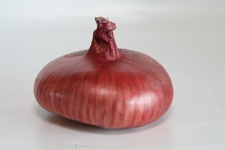onion: (31, 14, 175, 132)
